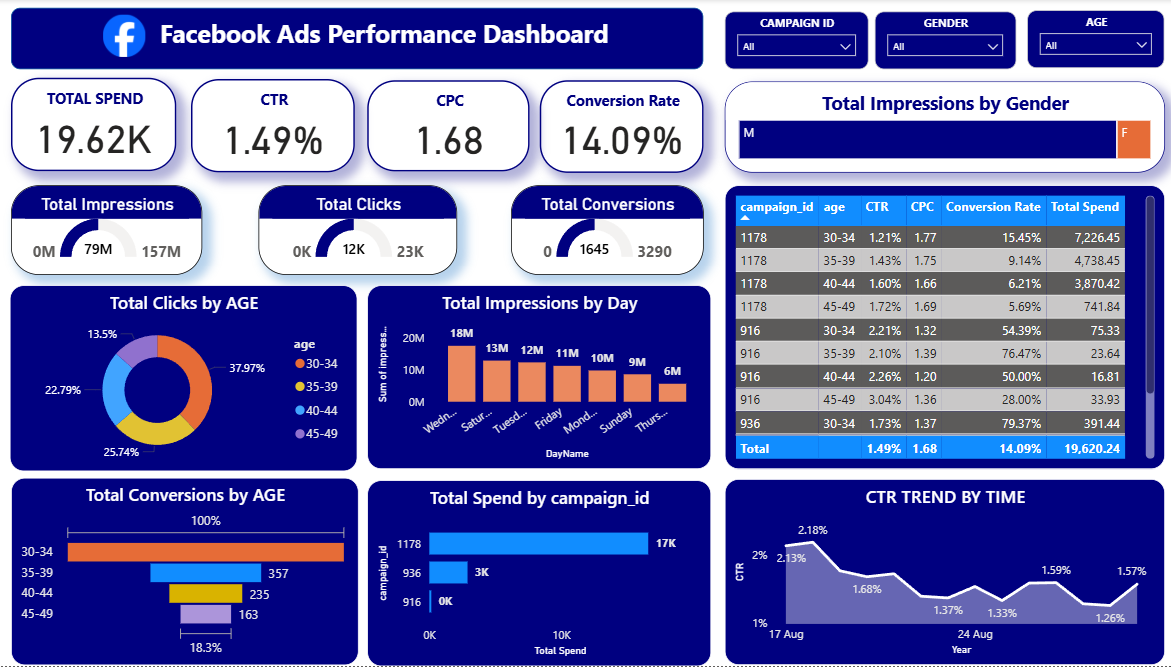

This screenshot's page, from the dashboard's own definition file:
{"tool":"powerbi","page":{"name":"Performance  Dashboard","canvas":[1280,720],"ordinal":0},"visuals":[{"type":"card","title":"TOTAL SPEND","fields":{"Values":["data_clnd.Total Spend"]},"box":[21.6,85,178.1,101.2],"z":0},{"type":"card","title":"CTR","fields":{"Values":["data_clnd.CTR"]},"box":[215.9,86.3,176.7,101.2],"z":1000},{"type":"gauge","title":"Total Impressions","fields":{"Y":["data_clnd.Total Impressions"]},"box":[21.6,201,206.4,97.1],"z":2000},{"type":"gauge","fields":{"Y":["data_clnd.Total Clicks"]},"box":[288.7,201,214.5,97.1],"z":3000},{"type":"areaChart","title":"CTR TREND BY TIME","fields":{"Category":["data_clnd.reporting_start.Variation.Date Hierarchy.Year","data_clnd.reporting_start.Variation.Date Hierarchy.Quarter","data_clnd.reporting_start.Variation.Date Hierarchy.Month","data_clnd.reporting_start.Variation.Date Hierarchy.Day"],"Y":["data_clnd.CTR"]},"box":[791.9,518,474.9,201],"z":4000},{"type":"slicer","title":"CAMPAIGN ID","fields":{"Values":["data_clnd.campaign_id"]},"box":[791.9,13.5,155.1,62.1],"z":5000},{"type":"card","title":"Conversion Rate","fields":{"Values":["data_clnd.Conversion Rate"]},"box":[592.2,87.7,176.7,99.8],"z":6000},{"type":"textbox","box":[21.6,9.4,747.4,66.1],"z":7000},{"type":"slicer","title":"GENDER","fields":{"Values":["data_clnd.gender"]},"box":[953.8,13.5,152.4,62.1],"z":8000},{"type":"slicer","title":"AGE","fields":{"Values":["data_clnd.age"]},"box":[1118.4,12.1,148.4,62.1],"z":9000},{"type":"card","title":"CPC","fields":{"Values":["data_clnd.CPC"]},"box":[406.1,87.7,175.4,98.5],"z":10000},{"type":"gauge","title":"Total Conversions","fields":{"Y":["Sum(data_clnd.total_conversion)"]},"box":[561.2,201,207.8,97.1],"z":11000},{"type":"donutChart","title":"Total Clicks by AGE","fields":{"Category":["data_clnd.age"],"Y":["Sum(data_clnd.clicks)"]},"box":[20.2,308.9,375,201],"z":12000},{"type":"treemap","title":"Total Impressions by Gender","fields":{"Values":["Sum(data_clnd.impressions)"],"Group":["data_clnd.gender"]},"box":[791.9,89,474.9,98.5],"z":13000},{"type":"funnel","title":"Total Conversions by AGE","fields":{"Category":["data_clnd.age"],"Y":["Sum(data_clnd.total_conversion)"]},"box":[21.6,516.7,375,202.4],"z":14000},{"type":"barChart","fields":{"Y":["data_clnd.Total Spend"],"Category":["data_clnd.campaign_id"]},"box":[406.1,519.4,371,201],"z":15000},{"type":"clusteredColumnChart","title":"Total Impressions  by Day","fields":{"Category":["data_clnd.DayName"],"Y":["Sum(data_clnd.impressions)"]},"box":[406.1,308.9,371,198.3],"z":16000},{"type":"tableEx","fields":{"Values":["data_clnd.campaign_id","data_clnd.age","data_clnd.CTR","data_clnd.CPC","data_clnd.Conversion Rate","data_clnd.Total Spend"]},"box":[791.9,201,474.9,306.2],"z":17000},{"type":"image","box":[106.6,12.1,74.2,55.3],"z":18001}]}

Visuals, with their boxes in screenshot pixels (x1, y1, x2, y2), scaled from the page's 1280x720 canvas onto the 1171x667 screenshot:
"TOTAL SPEND" card: {"x1": 20, "y1": 79, "x2": 183, "y2": 172}
"CTR" card: {"x1": 198, "y1": 80, "x2": 359, "y2": 174}
"Total Impressions" gauge: {"x1": 20, "y1": 186, "x2": 209, "y2": 276}
gauge - data_clnd.Total Clicks: {"x1": 264, "y1": 186, "x2": 460, "y2": 276}
"CTR TREND BY TIME" areaChart: {"x1": 724, "y1": 480, "x2": 1159, "y2": 666}
"CAMPAIGN ID" slicer: {"x1": 724, "y1": 13, "x2": 866, "y2": 70}
"Conversion Rate" card: {"x1": 542, "y1": 81, "x2": 703, "y2": 174}
textbox: {"x1": 20, "y1": 9, "x2": 704, "y2": 70}
"GENDER" slicer: {"x1": 873, "y1": 13, "x2": 1012, "y2": 70}
"AGE" slicer: {"x1": 1023, "y1": 11, "x2": 1159, "y2": 69}
"CPC" card: {"x1": 372, "y1": 81, "x2": 532, "y2": 172}
"Total Conversions" gauge: {"x1": 513, "y1": 186, "x2": 704, "y2": 276}
"Total Clicks by AGE" donutChart: {"x1": 18, "y1": 286, "x2": 362, "y2": 472}
"Total Impressions by Gender" treemap: {"x1": 724, "y1": 82, "x2": 1159, "y2": 174}
"Total Conversions by AGE" funnel: {"x1": 20, "y1": 479, "x2": 363, "y2": 666}
barChart - data_clnd.Total Spend x data_clnd.campaign_id: {"x1": 372, "y1": 481, "x2": 711, "y2": 666}
"Total Impressions  by Day" clusteredColumnChart: {"x1": 372, "y1": 286, "x2": 711, "y2": 470}
tableEx - data_clnd.campaign_id x data_clnd.age: {"x1": 724, "y1": 186, "x2": 1159, "y2": 470}
image: {"x1": 98, "y1": 11, "x2": 165, "y2": 62}
